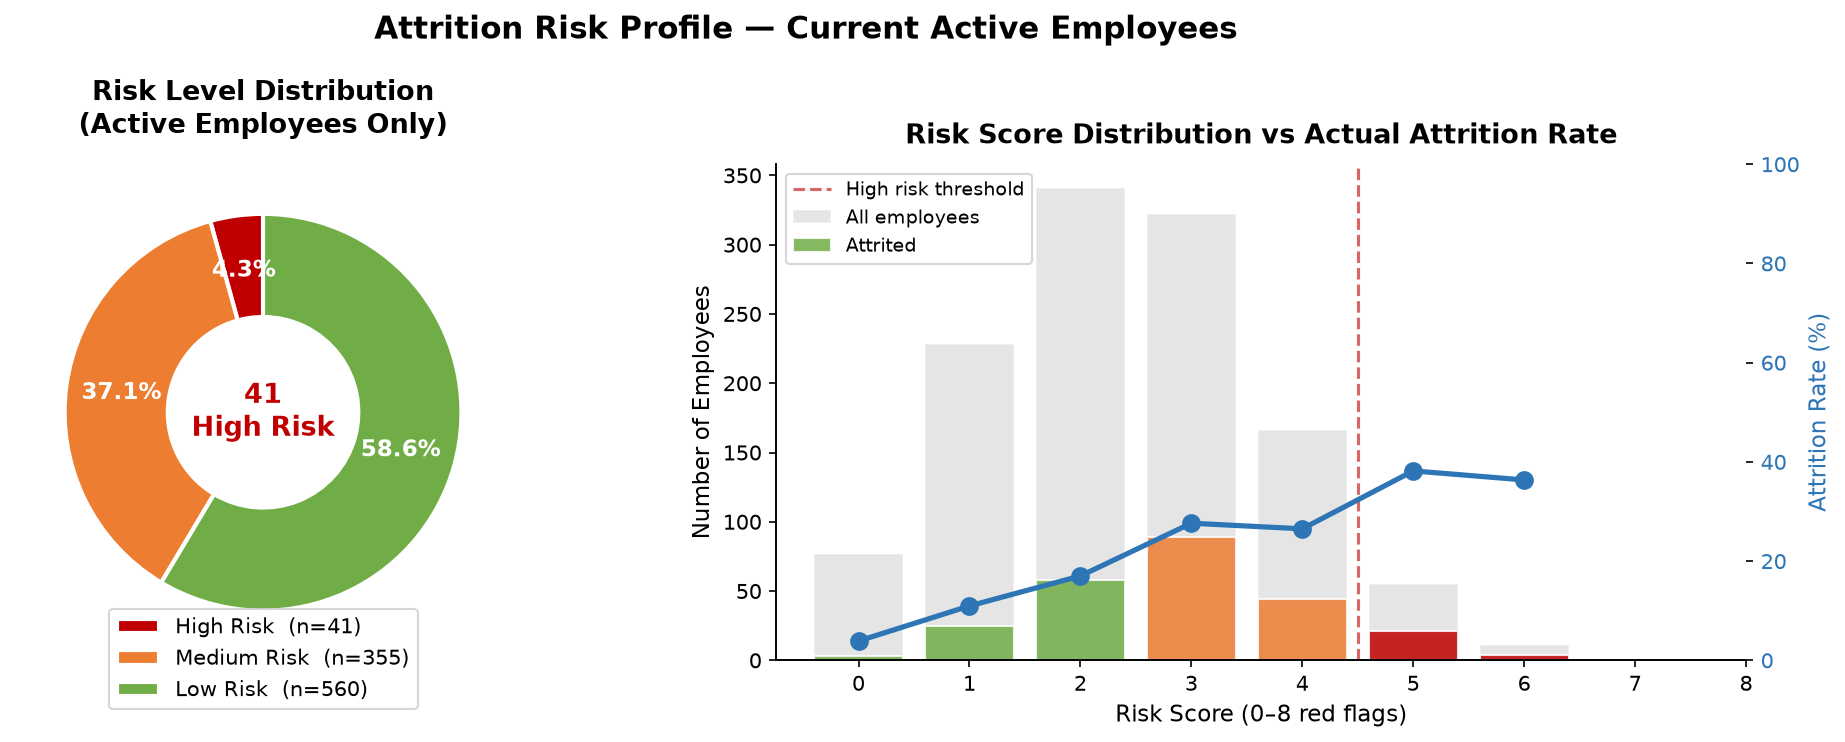

This screenshot's page, from the dashboard's own definition file:
{"tool":"tableau","page":{"name":"Dashboard 2","canvas":[1366,768],"ordinal":1},"visuals":[{"type":"text","box":[19,13,1122,75]},{"type":"worksheet","title":"Sheet 8","mark":"Pie","box":[23,97,516,221]},{"type":"worksheet","title":"Sheet 6","mark":"Automatic","rows":["Calculation_1087704052768768","Calculation_1087704053719041"],"cols":["Calculation_1087704054235140"],"box":[546,97,608,220]},{"type":"worksheet","title":"Sheet 9","mark":"Text","rows":["employee_id","department","job_role","overtime"],"box":[23,322,1132,293]}]}

Visuals, with their boxes on the page's 1366x768 design canvas (x1, y1, x2, y2). These are canvas units, not pixel positions in the 1845x742 screenshot, which may show the page scaled, cropped or inside an application window:
text: crop(19, 13, 1141, 88)
"Sheet 8" worksheet (Pie marks): crop(23, 97, 539, 318)
"Sheet 6" worksheet: crop(546, 97, 1154, 317)
"Sheet 9" worksheet (Text marks): crop(23, 322, 1155, 615)
